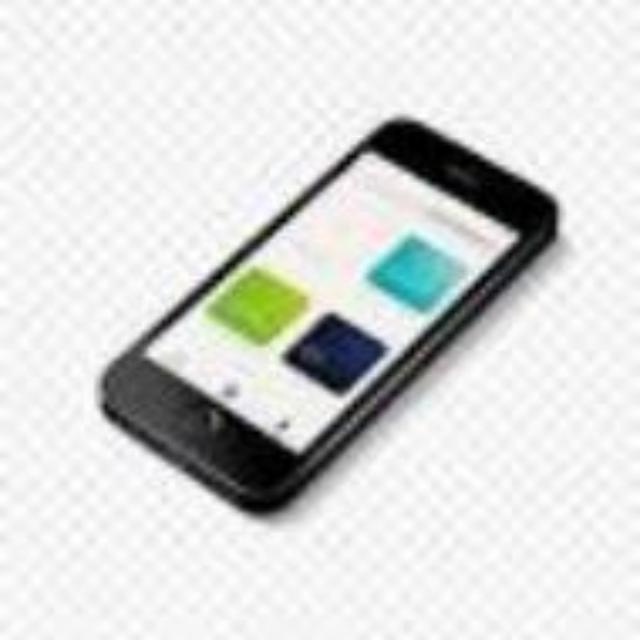phone: (86, 103, 584, 563)
